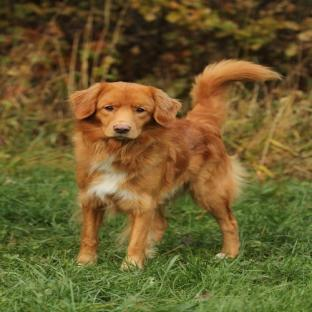Animal: (71, 60, 280, 270)
